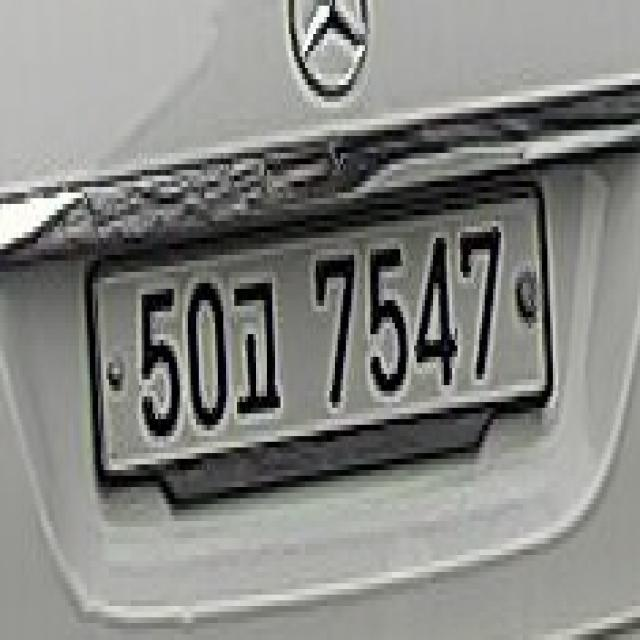0: (187, 264, 227, 437)
4: (418, 233, 456, 387)
5: (138, 284, 186, 447), (368, 246, 412, 401)
7: (459, 217, 506, 392), (312, 248, 359, 416)
go: (233, 263, 290, 422)
license_plate: (90, 182, 552, 478)
